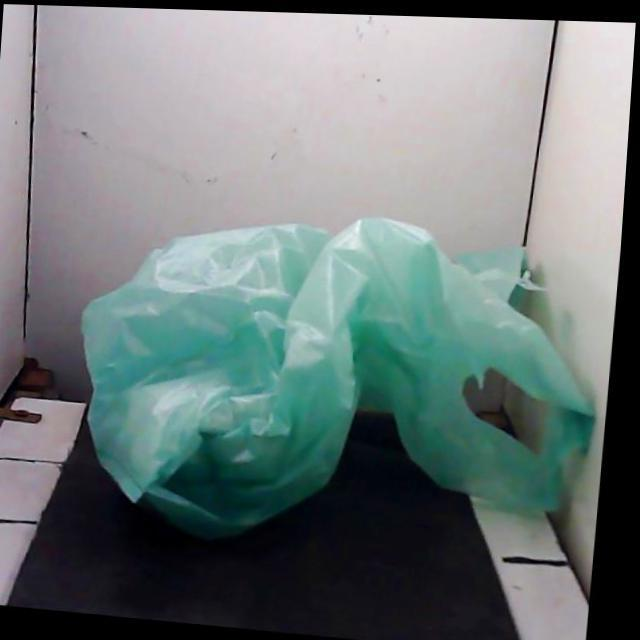plastico: (84, 218, 589, 538)
